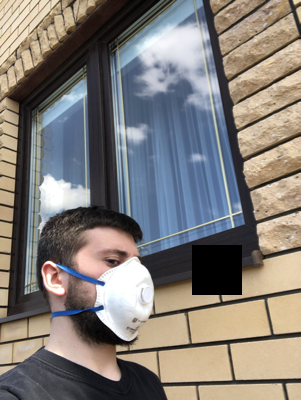with_mask: (86, 244, 156, 346)
